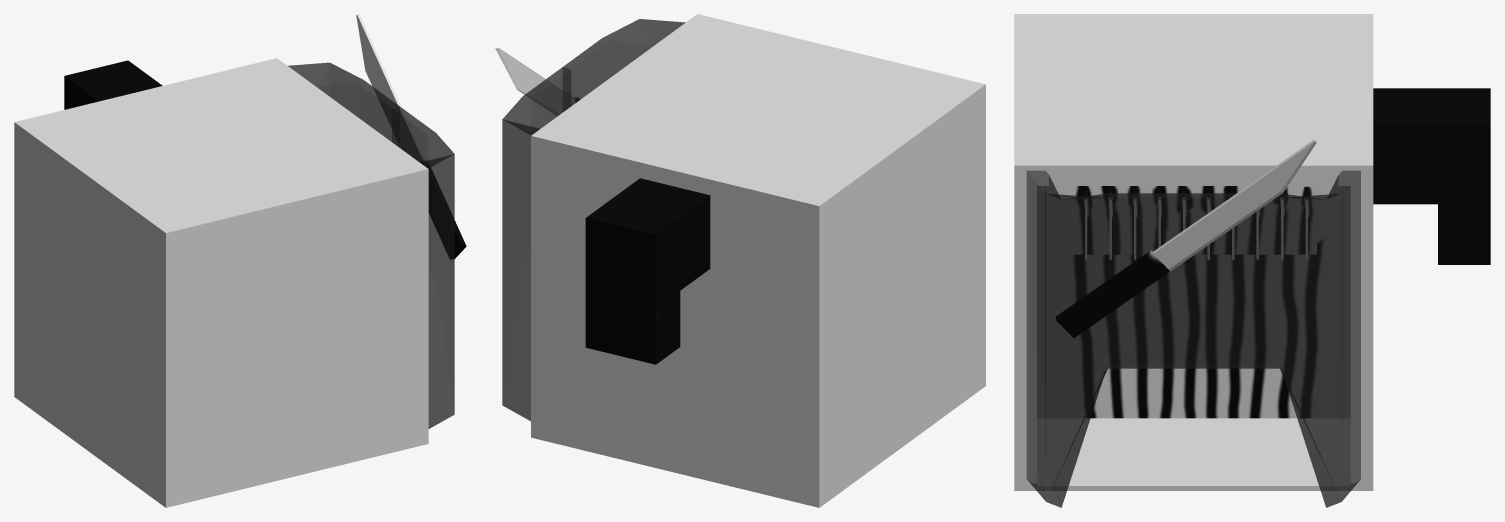
The model's file is cutter.fbx.
3 views of the same model, side by side, from view 1: azimuth 30°, elevation 25°; view 2: azimuth 150°, elevation 25°; view 3: azimuth 270°, elevation 25° (orthographic). The views are drawn at different scales.
Parts seen in each view (by area): view 1: Cube, Window, Knife; view 2: Cube, Window, Knife; view 3: Cube, Window, Knife, Knife.001.
Part boxes in pixels (box(x1,y1,x2,y2)): Cube: box(14, 58, 428, 507); Window: box(288, 62, 454, 428); Knife: box(356, 14, 466, 259); Cube: box(531, 14, 985, 507); Window: box(502, 19, 685, 421); Knife: box(495, 47, 579, 115); Cube: box(1014, 14, 1490, 490); Window: box(1026, 170, 1360, 507); Knife: box(1055, 140, 1316, 337); Knife.001: box(1083, 187, 1309, 259).
Size of the model in its own units: 244 by 239 by 265.
